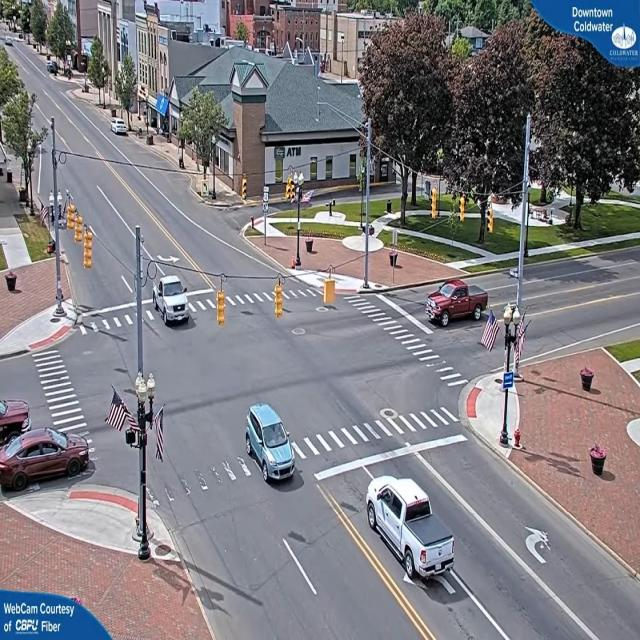car: (368, 483, 457, 584), (0, 428, 89, 490), (246, 404, 299, 487), (427, 278, 487, 326), (153, 275, 192, 327), (112, 121, 130, 138)
